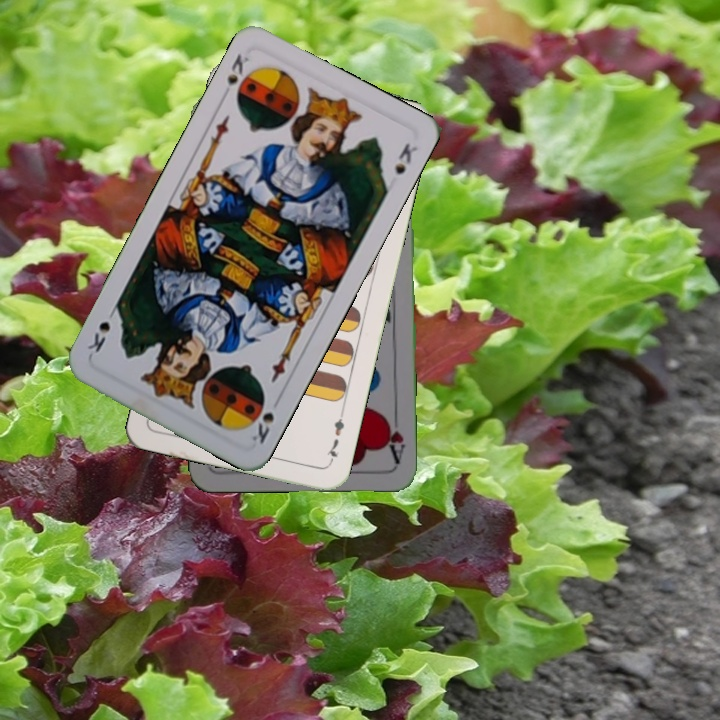E7: (322, 408, 347, 467)
HA: (381, 406, 408, 465)
SK: (217, 49, 252, 102), (247, 408, 277, 447)
